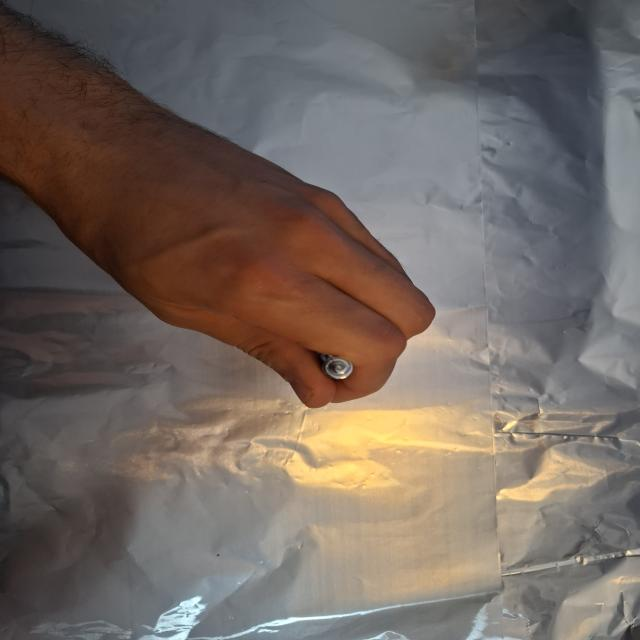glove_off: (54, 134, 439, 410)
